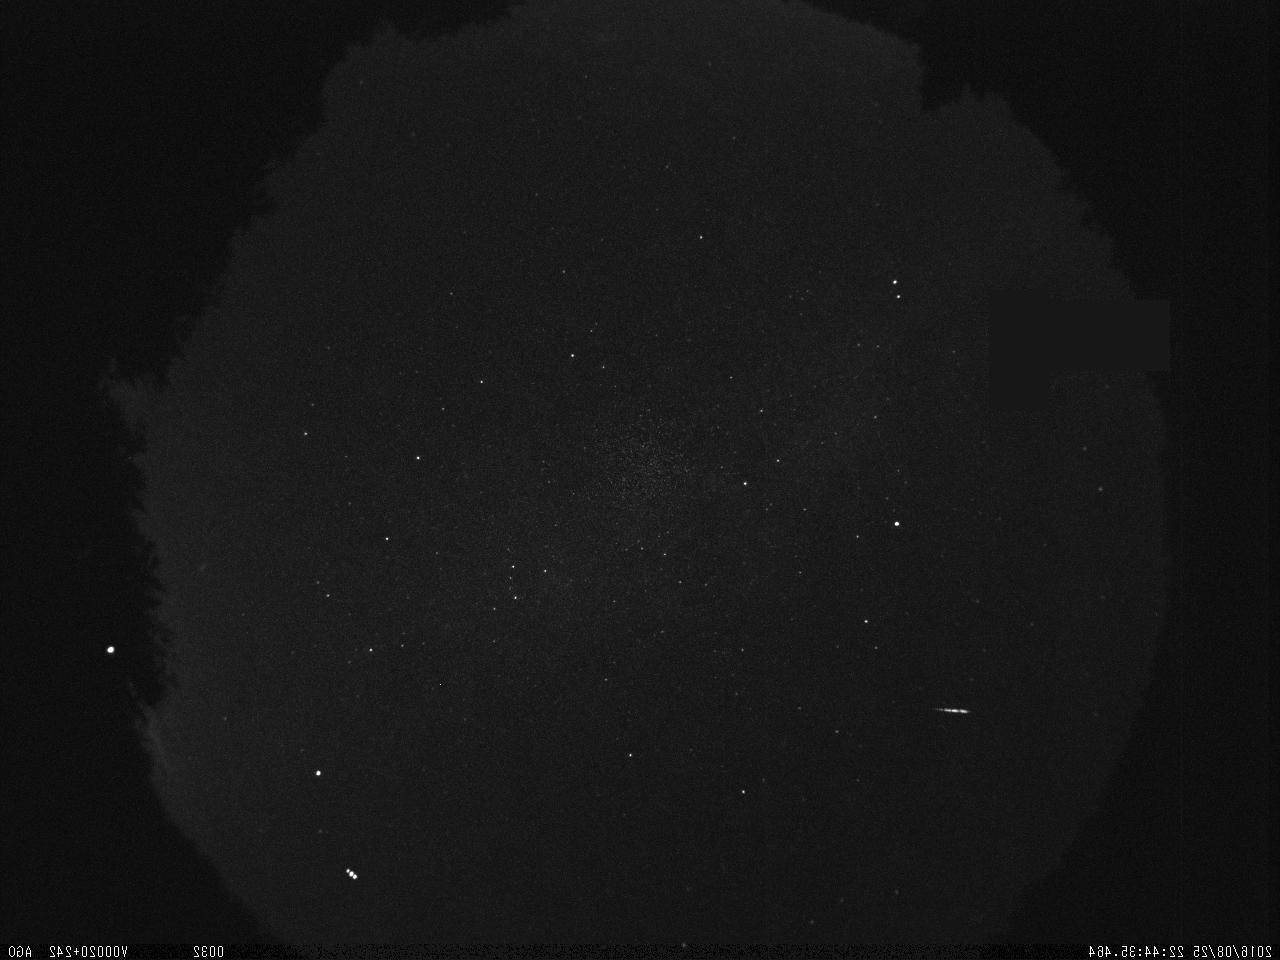meteor: (930, 662, 970, 740), (324, 839, 370, 895)
